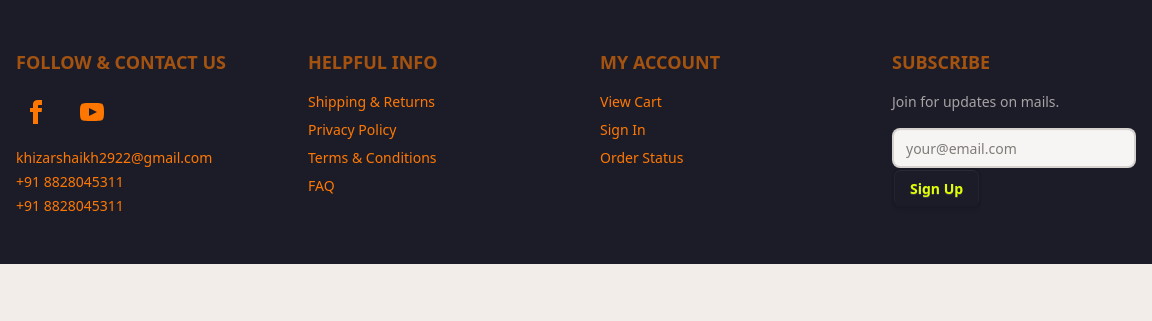
Footer Component › should handle generic API error when no error message is returned
Type "test@example.com" into the field with placeholder "your@email.com" at (1014, 148), box [892,128,1136,168]
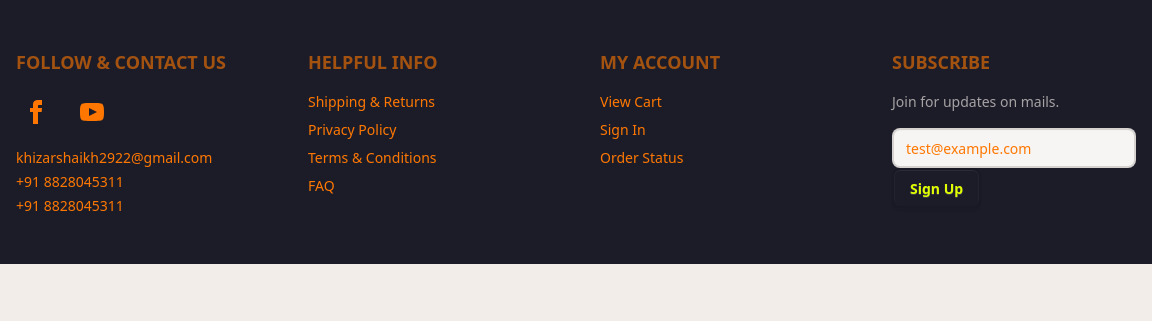
Click the button "Sign Up" at (937, 188), box [892,168,981,208]
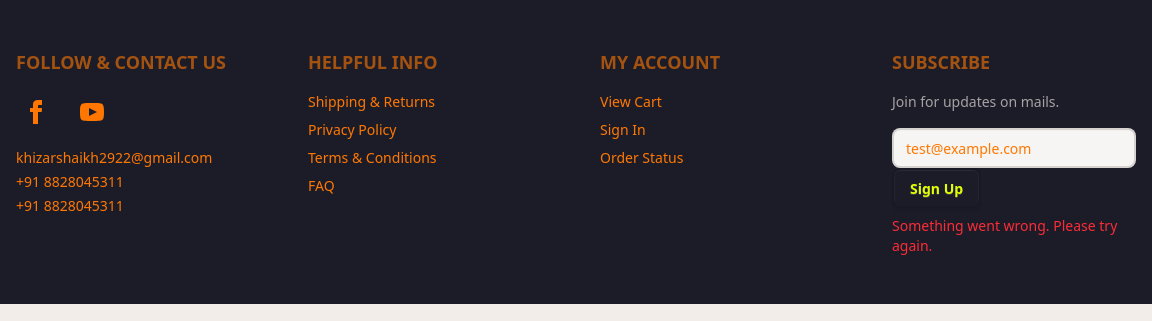
Result: the text "Something went wrong. Please try again." is shown at [892,216,1136,256]
